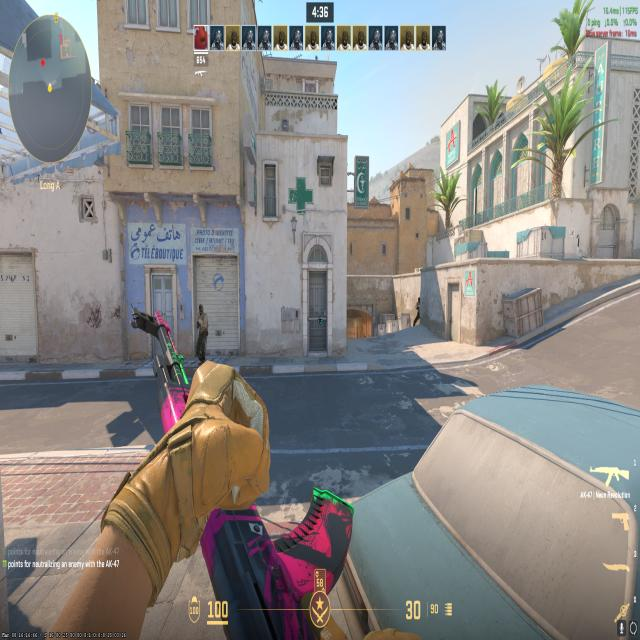t: (188, 295, 214, 366), (414, 286, 421, 326)
